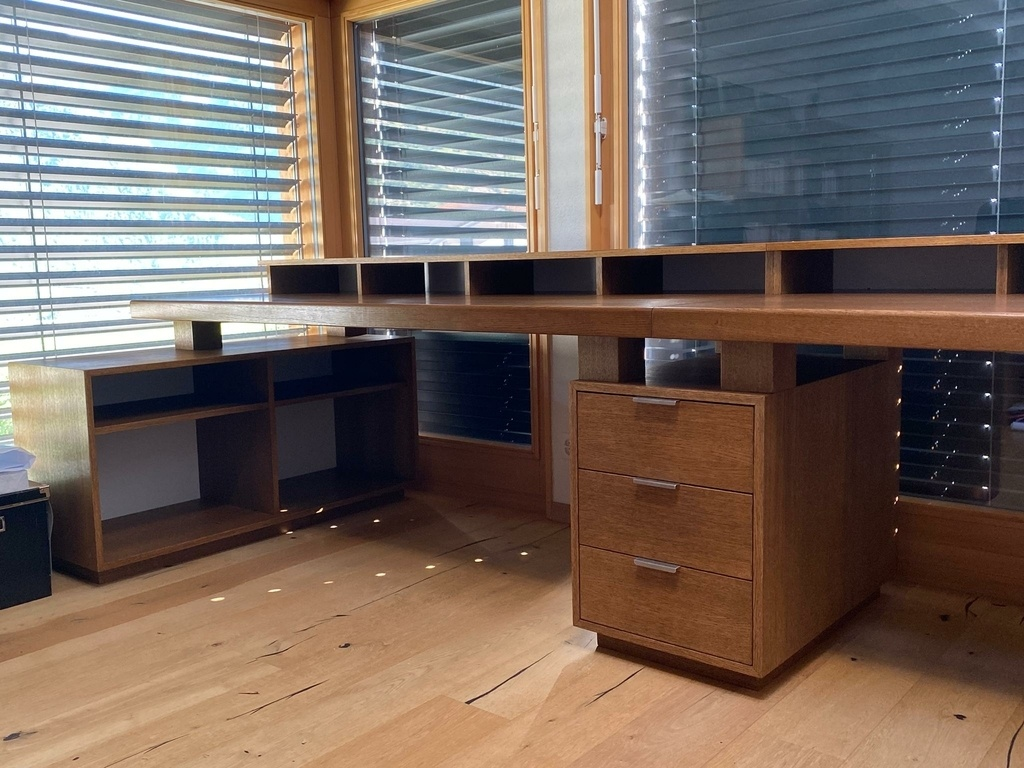Table: (162, 334, 363, 482)
